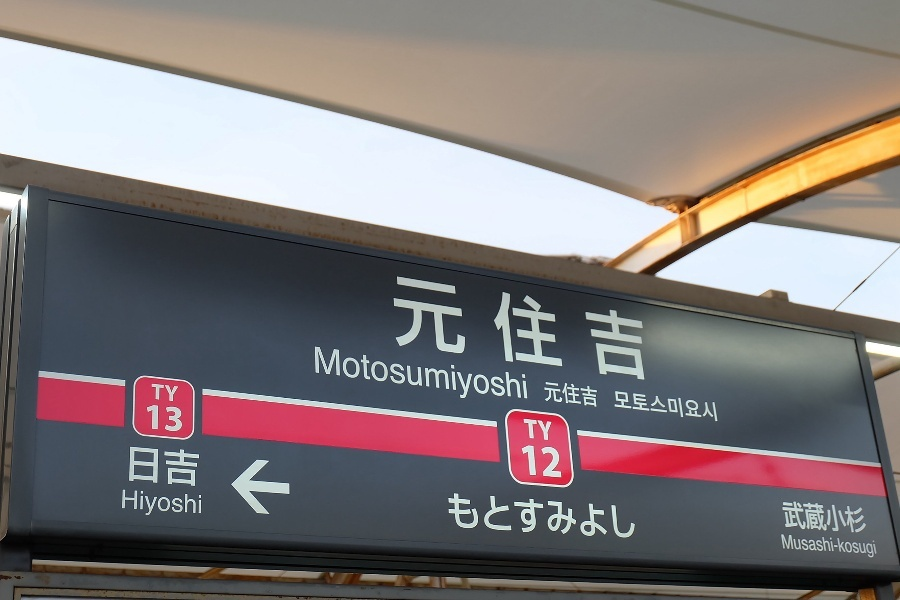text: (401, 274, 416, 381), (417, 274, 432, 381), (433, 274, 448, 381), (449, 274, 464, 381), (465, 274, 480, 381), (481, 274, 496, 381), (497, 274, 512, 381), (513, 274, 528, 381), (529, 274, 544, 381), (545, 274, 560, 381), (561, 274, 576, 381), (577, 274, 592, 381), (593, 274, 608, 381), (609, 274, 624, 381), (625, 274, 640, 381), (321, 347, 336, 406), (337, 347, 352, 406), (353, 347, 368, 406), (369, 347, 384, 406), (385, 347, 400, 406), (401, 347, 416, 406), (417, 347, 432, 406), (433, 347, 448, 406), (449, 347, 464, 406), (465, 347, 480, 406), (481, 347, 496, 406), (497, 347, 512, 406), (513, 347, 528, 406), (449, 494, 464, 540), (465, 494, 480, 540), (481, 494, 496, 540), (497, 494, 512, 540), (513, 494, 528, 540), (529, 494, 544, 540), (545, 494, 560, 540), (561, 494, 576, 540), (577, 494, 592, 540), (593, 494, 608, 540), (609, 494, 624, 540), (145, 446, 160, 487), (161, 446, 176, 487), (177, 446, 192, 487), (130, 446, 144, 487), (625, 494, 637, 540), (545, 444, 561, 478), (395, 274, 400, 381), (785, 501, 800, 535), (801, 501, 816, 535), (817, 501, 832, 535), (833, 501, 848, 535), (849, 501, 864, 535), (529, 444, 544, 478), (625, 391, 640, 421), (641, 391, 656, 421), (657, 391, 672, 421), (673, 391, 688, 421), (689, 391, 704, 421), (641, 274, 645, 381), (545, 381, 560, 408), (561, 381, 576, 408), (577, 381, 592, 408), (129, 490, 144, 517), (145, 490, 160, 517), (161, 490, 176, 517), (177, 490, 192, 517), (161, 405, 176, 432), (705, 391, 718, 421), (785, 535, 800, 559), (801, 535, 816, 559), (817, 535, 832, 559), (833, 535, 848, 559), (849, 535, 864, 559), (147, 405, 160, 432), (529, 419, 544, 440), (865, 535, 878, 559), (315, 347, 320, 406), (615, 391, 624, 421), (161, 384, 176, 402), (193, 446, 199, 487), (521, 444, 528, 478), (193, 490, 201, 517), (122, 490, 128, 517), (545, 419, 552, 440), (152, 384, 160, 402), (177, 405, 182, 432), (593, 381, 597, 408), (523, 419, 528, 440), (781, 535, 784, 559), (782, 501, 784, 535), (865, 501, 867, 535), (177, 384, 178, 402)
